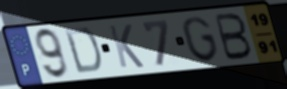7: (141, 17, 172, 69)
9: (33, 27, 70, 81)
B: (213, 12, 254, 62)
D: (62, 26, 104, 76)
G: (180, 15, 221, 64)
K: (107, 23, 147, 70)
